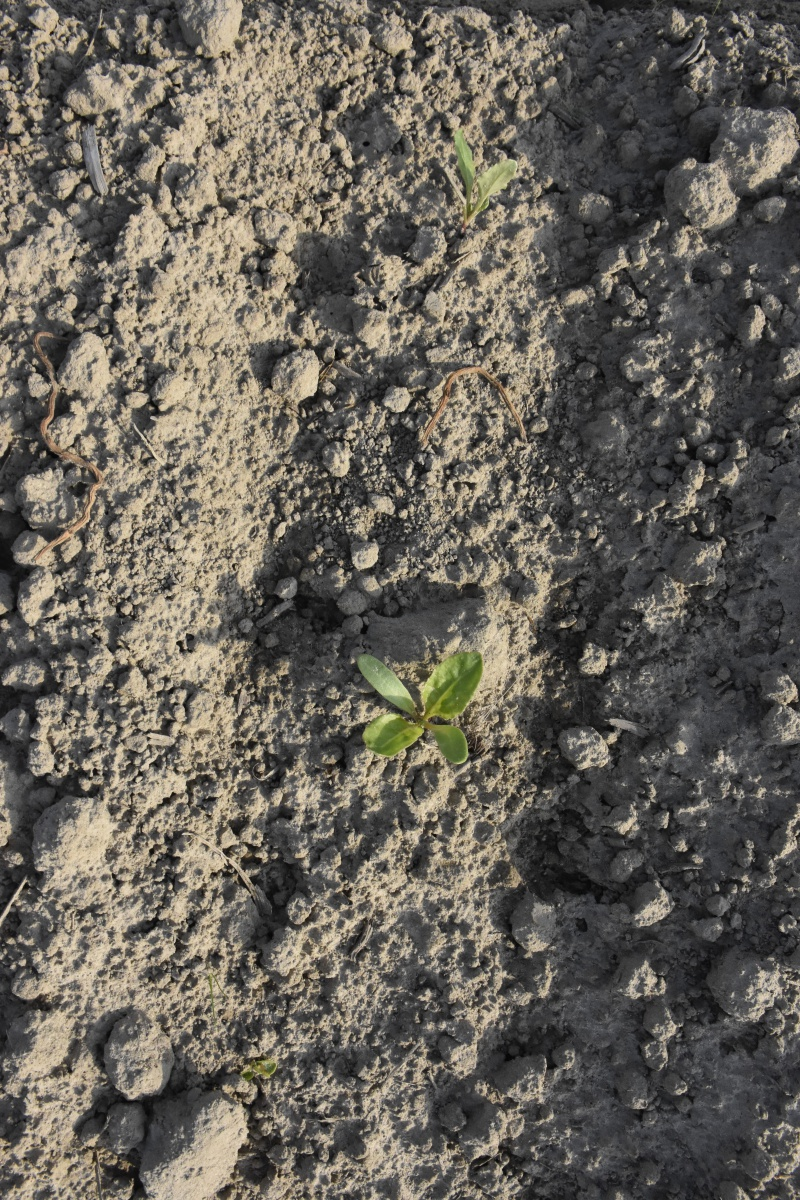sugar beet: (355, 646, 489, 770), (442, 130, 518, 230)
